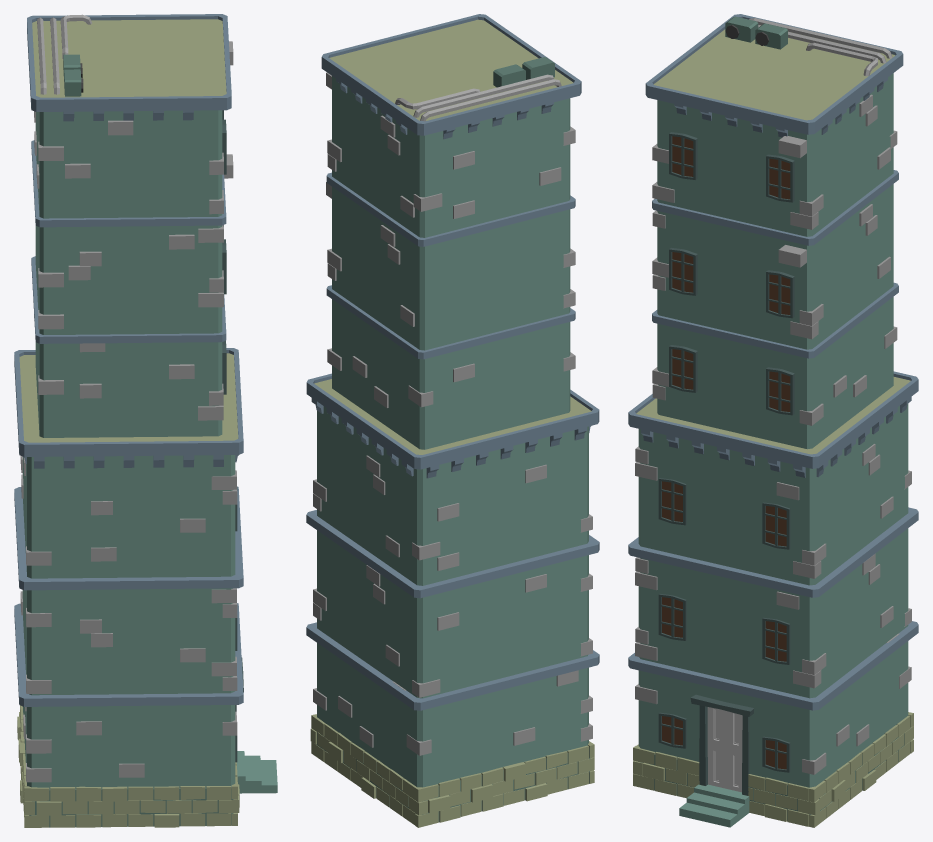
File: Building4_Env.fbx
3 views of the same model, side by side, from view 1: azimuth 30°, elevation 25°; view 2: azimuth 150°, elevation 25°; view 3: azimuth 270°, elevation 25° (orthographic). The views are drawn at different scales.
Visible parts, largest first — view 1: 6Story_Stack_Mat.003; view 2: 6Story_Stack_Mat.003; view 3: 6Story_Stack_Mat.003.
Boxes of the visible parts, <box> form: 6Story_Stack_Mat.003: <box>14,14,277,827</box>; 6Story_Stack_Mat.003: <box>306,14,599,827</box>; 6Story_Stack_Mat.003: <box>628,14,918,827</box>.
Size of the model in its own units: 288 by 780 by 288.
